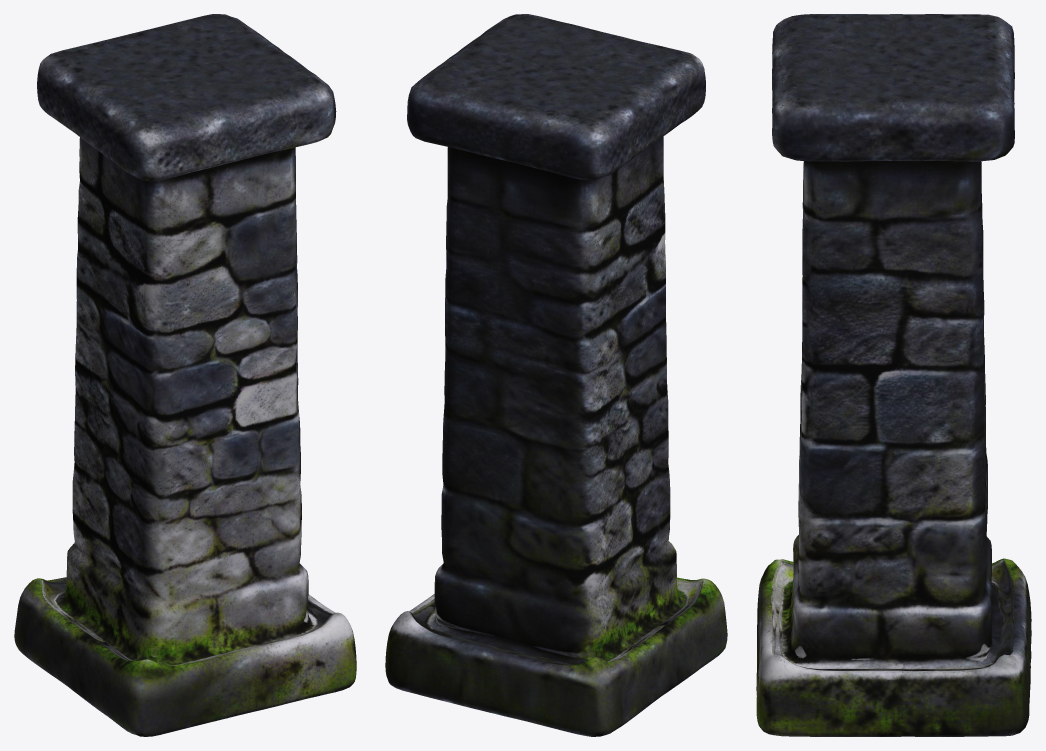
The model's file is Pillar 1.fbx.
3 views of the same model, side by side, from view 1: azimuth 30°, elevation 25°; view 2: azimuth 150°, elevation 25°; view 3: azimuth 270°, elevation 25° (orthographic). The views are drawn at different scales.
Parts seen in each view (by area): view 1: mesh; view 2: mesh; view 3: mesh.
Boxes of the visible parts, <box> form: mesh: <box>14,14,356,736</box>; mesh: <box>385,14,727,736</box>; mesh: <box>756,14,1031,736</box>.
Size of the model in its own units: 39.74 by 99.97 by 39.86.
